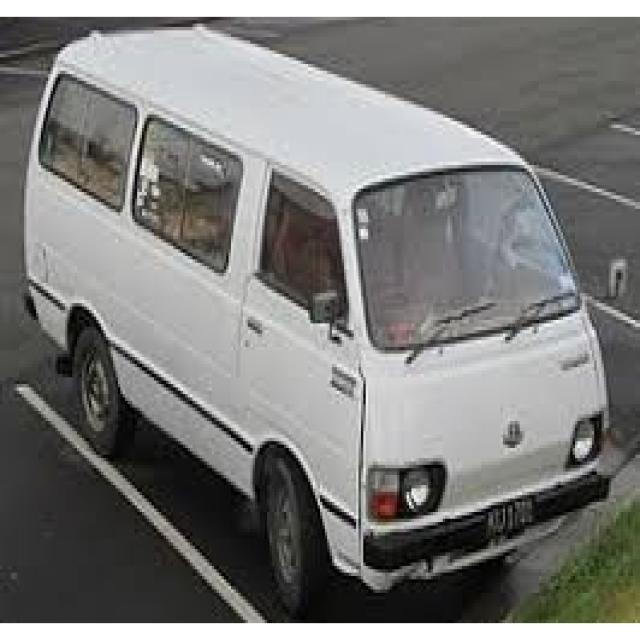Van: (29, 30, 629, 625)
